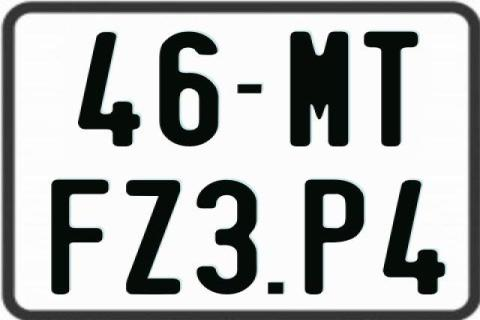0: (194, 178, 259, 298), (383, 179, 447, 295), (78, 30, 140, 146), (159, 31, 218, 146)
F: (51, 178, 114, 298)
M: (289, 30, 352, 146)
P: (303, 177, 367, 297)
T: (363, 29, 421, 147)
Z: (123, 180, 178, 297)
